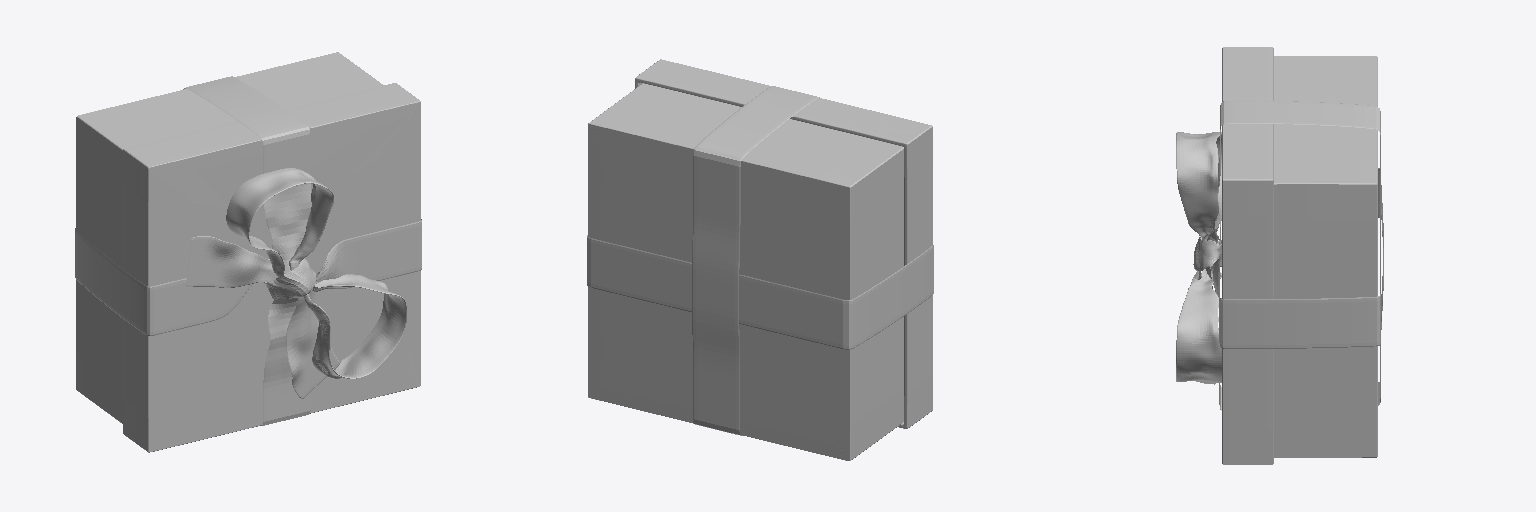
Rendered from gift_1.obj.
3 renders of one model, left to right at view 1: azimuth 30°, elevation 25°; view 2: azimuth 150°, elevation 25°; view 3: azimuth 270°, elevation 25°, orthographic.
Parts seen in each view (by area): view 1: Gift_2; view 2: Gift_2; view 3: Gift_2.
Part boxes in pixels (x1,y1,x2,y2): Gift_2: (75, 52, 421, 452); Gift_2: (587, 59, 933, 460); Gift_2: (1176, 47, 1383, 464).
Bounding box in the file's own units: 4 × 4 × 2.6.